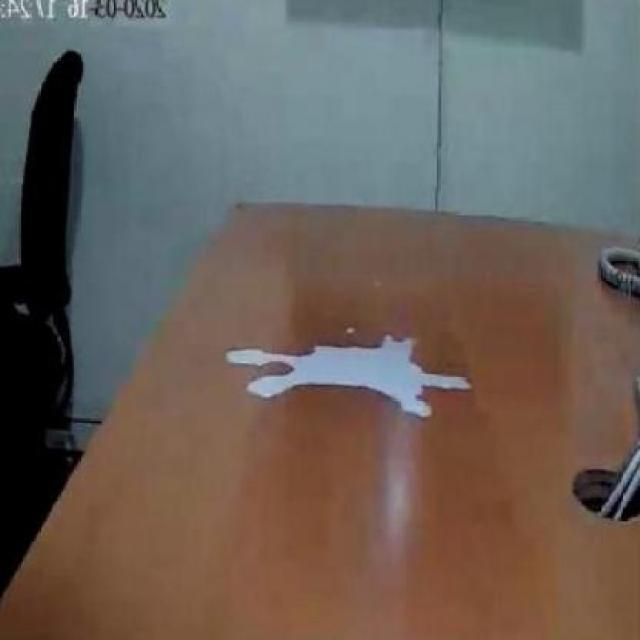spillage: (226, 337, 471, 419)
